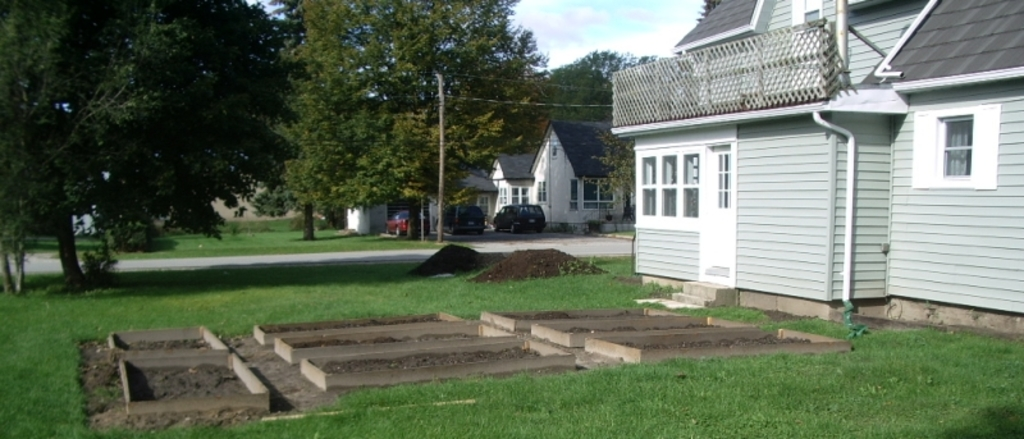Tree: (247, 1, 555, 244), (12, 33, 321, 271), (549, 47, 663, 211)
